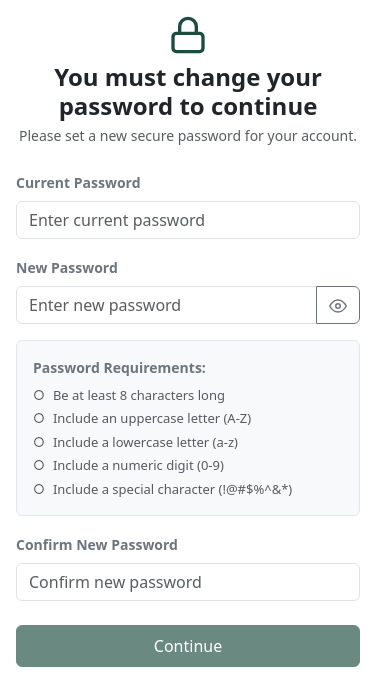
Test: ChangePassword Component Tests (UI-03, UI-03b) › UI-03: Submit button enables only when all rules match, confirm matches, and current password entered
The image size is (377, 684).
Expected: the button with test id "change-password-submit-button" is disabled, [16,625,360,667]
In the password field labelled "Current Password": {"x": 188, "y": 220} [16,201,360,239], type "OldPassword123!"
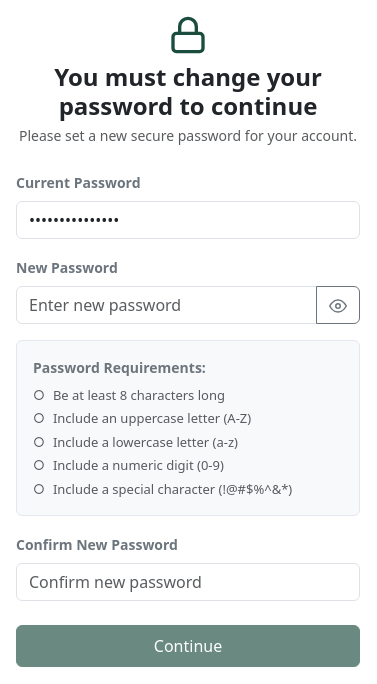
In the password field labelled "New Password": {"x": 166, "y": 305} [16,286,317,324], type "NewPassword123!"
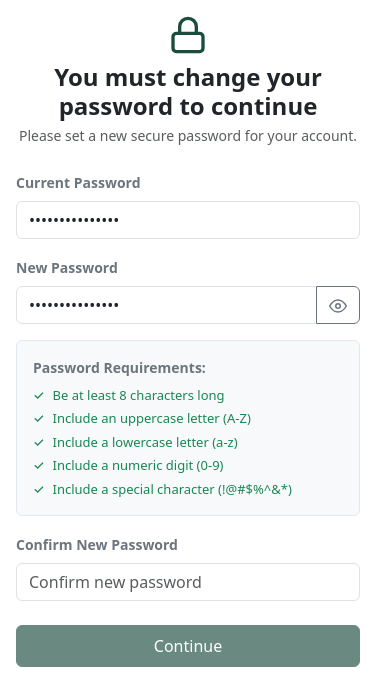
In the password field labelled "Confirm New Password": {"x": 188, "y": 582} [16,563,360,601], type "NewPassword123!"
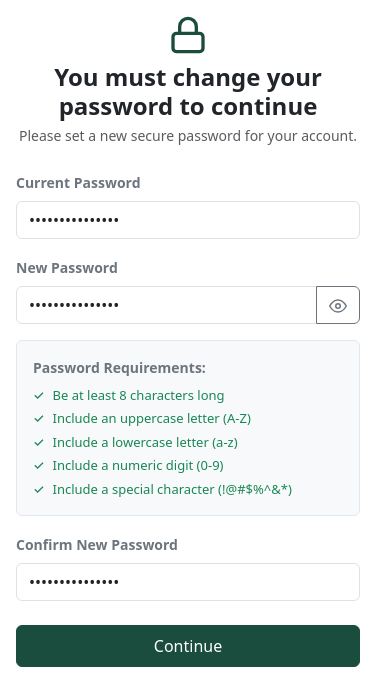
Expected: the button with test id "change-password-submit-button" is enabled, [16,625,360,667]
